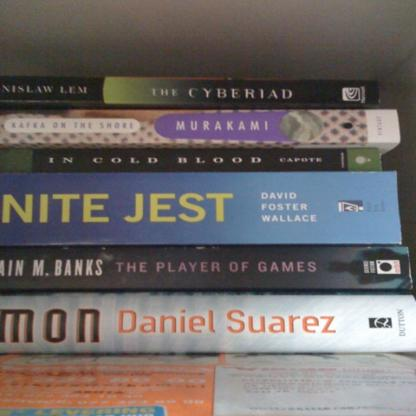book: (0, 168, 401, 247), (0, 290, 415, 354), (0, 354, 415, 416), (0, 110, 405, 158), (0, 242, 407, 289), (0, 72, 380, 109), (0, 147, 388, 170)
